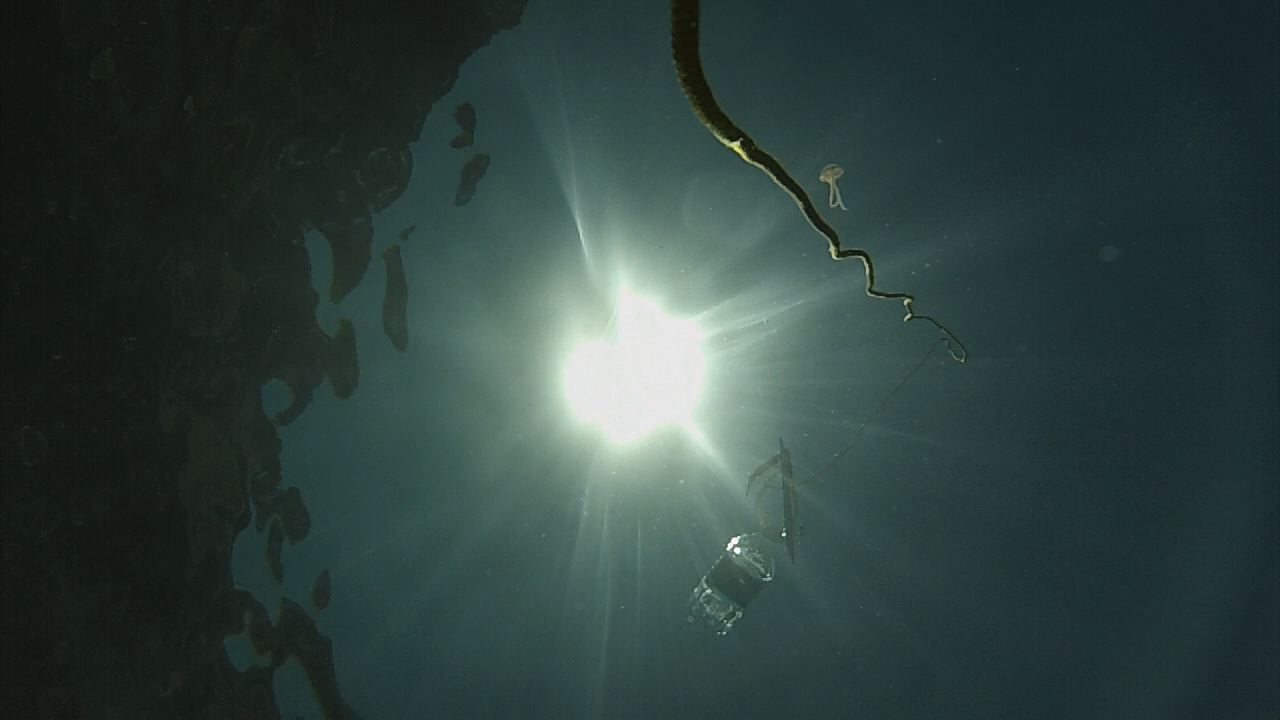pelagia: (816, 157, 854, 218)
